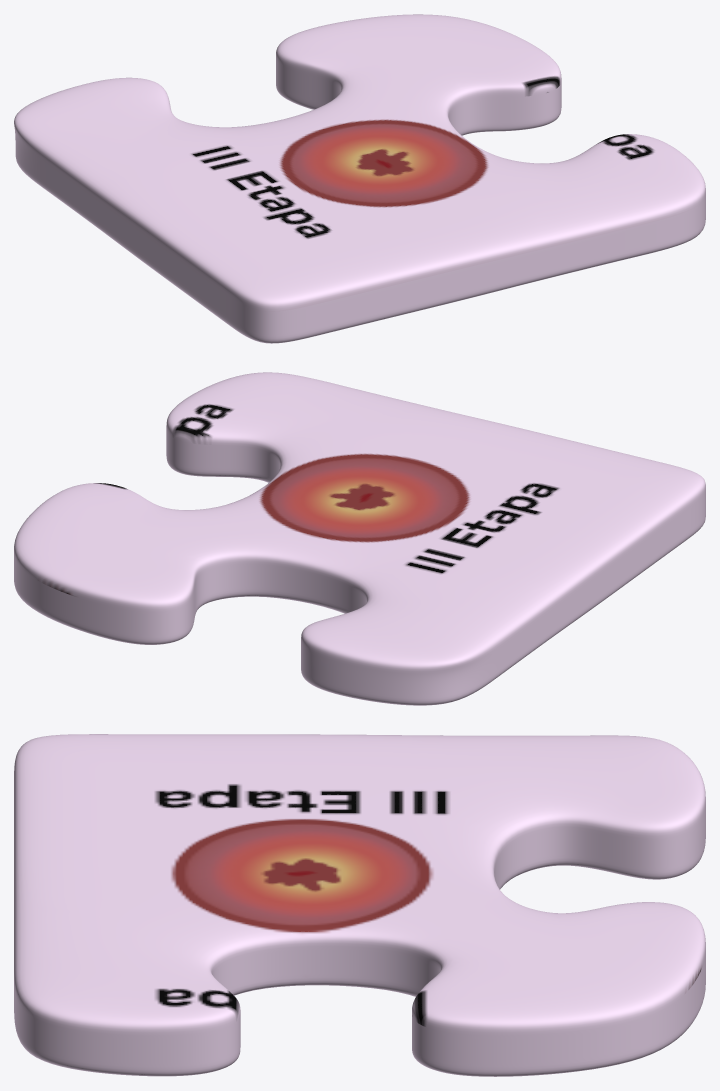
File: Pieza 3.fbx
3 renders of one model, top to bottom at view 1: azimuth 30°, elevation 25°; view 2: azimuth 150°, elevation 25°; view 3: azimuth 270°, elevation 25°, orthographic. The views are drawn at different scales.
Parts seen in each view (by area): view 1: Plane.002; view 2: Plane.002; view 3: Plane.002.
Part boxes in pixels (box(x1,y1,x2,y2)): Plane.002: box(14, 14, 705, 343); Plane.002: box(14, 372, 705, 705); Plane.002: box(14, 734, 705, 1076).
Size of the model in its own units: 50.89 by 5 by 50.88.
